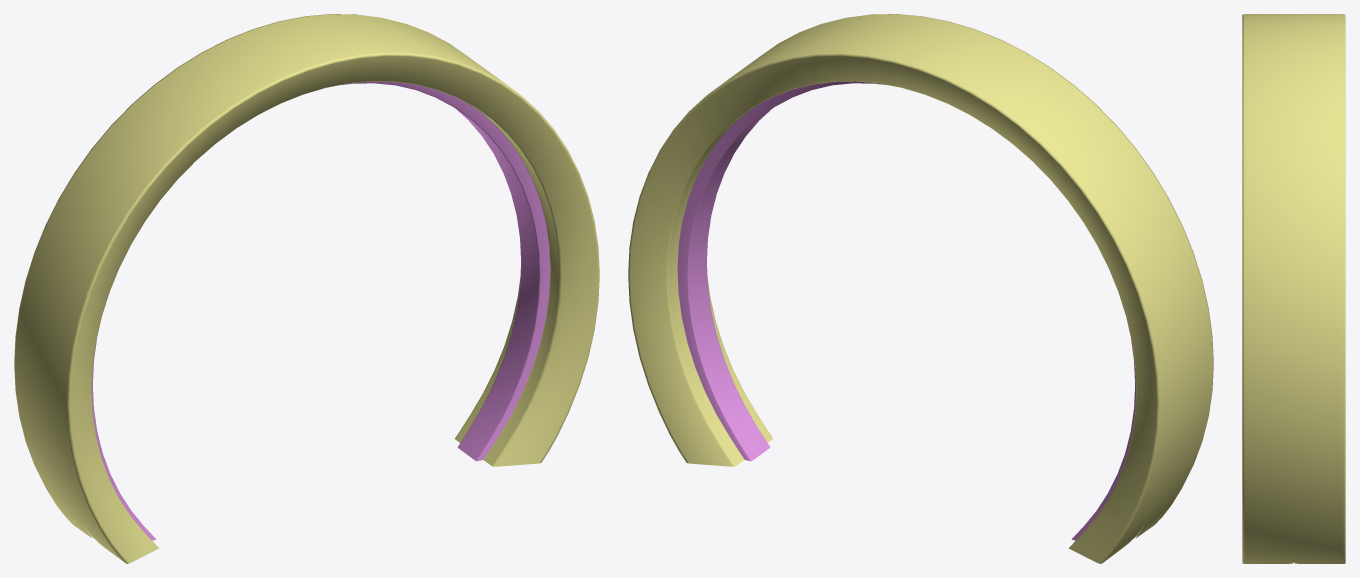
The model's file is MenuPortal.fbx.
3 views of the same model, side by side, from view 1: azimuth 30°, elevation 25°; view 2: azimuth 150°, elevation 25°; view 3: azimuth 270°, elevation 25° (orthographic). The views are drawn at different scales.
Parts seen in each view (by area): view 1: MenuPortal; view 2: MenuPortal; view 3: MenuPortal.
Boxes of the visible parts, bbox=[...] form: MenuPortal: bbox=[14, 14, 599, 563]; MenuPortal: bbox=[628, 14, 1213, 563]; MenuPortal: bbox=[1242, 14, 1345, 563].
Bounding box in the file's own units: 3.39 × 2.76 × 0.6048.
